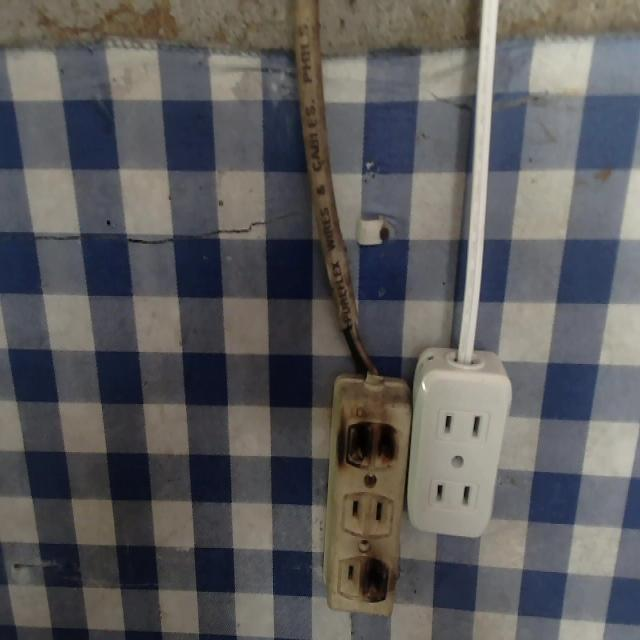-: (341, 418, 404, 473), (359, 555, 390, 608)
